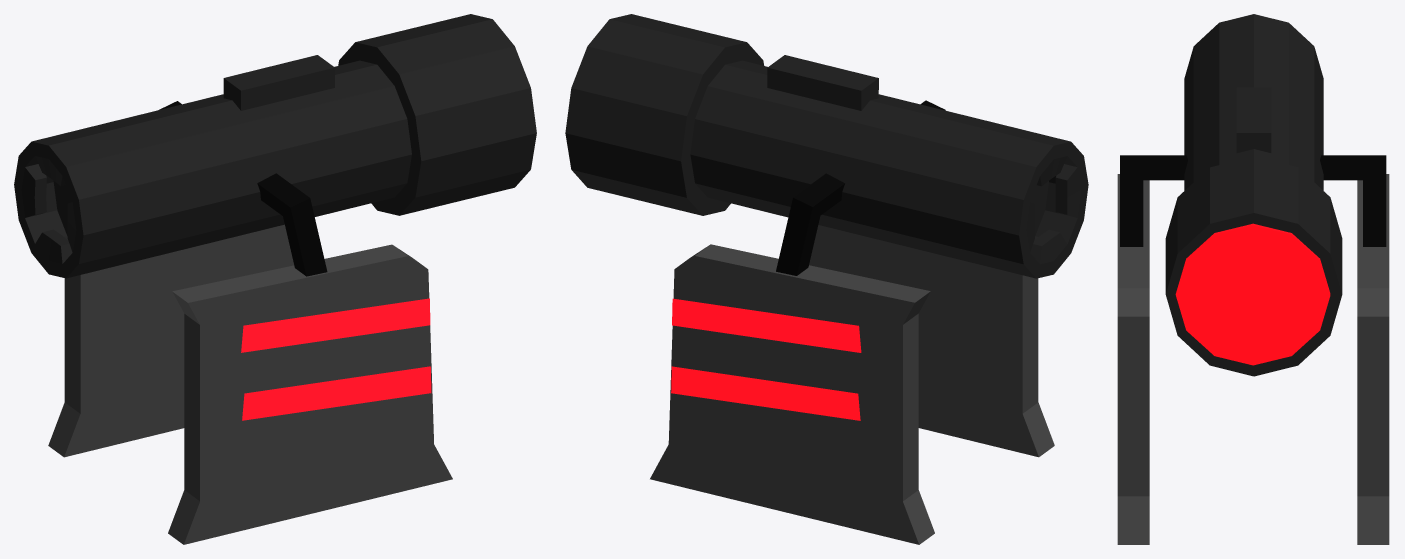
The model's file is tower2.fbx.
The picture shows the model from 3 angles, left to right: view 1: azimuth 30°, elevation 25°; view 2: azimuth 150°, elevation 25°; view 3: azimuth 270°, elevation 25°; orthographic projection.
Visible parts, largest first — view 1: Cylinder; view 2: Cylinder; view 3: Cylinder.
Boxes of the visible parts, x1,y1,x2,y2 form: Cylinder: (14, 14, 536, 544); Cylinder: (565, 14, 1088, 544); Cylinder: (1117, 14, 1389, 544).
Size of the model in its own units: 252 by 392 by 478.
